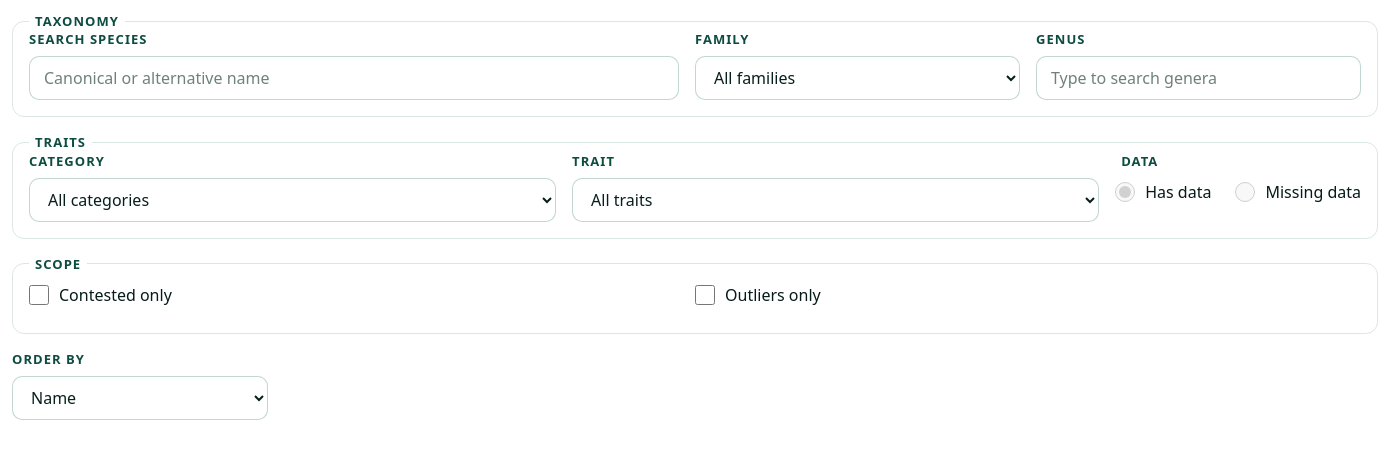
Test: RFC-13 R8 SpeciesSearchForm genus combobox ARIA › leaves aria-expanded false and drops aria-controls when the genus query matches nothing
The image size is (1378, 465).
Type "Zzz" into the dropdown labelled "Genus" at (1198, 78), box [1036, 56, 1361, 100]
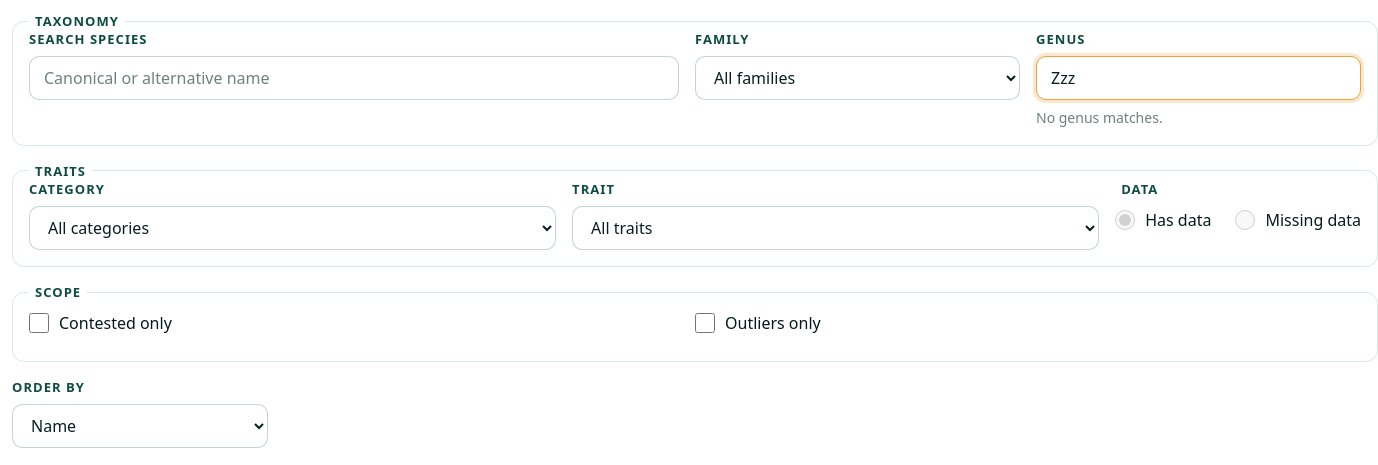
Check: the text "No genus matches." is shown, box [1036, 108, 1163, 127]
